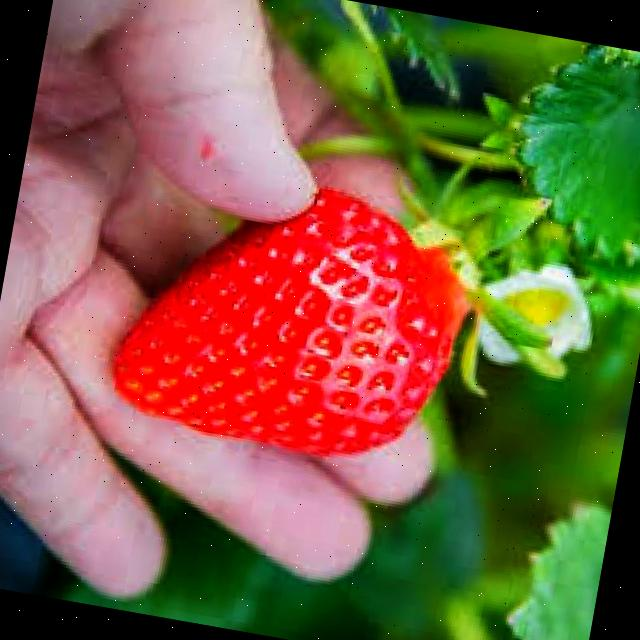strawberry: (100, 157, 474, 475)
